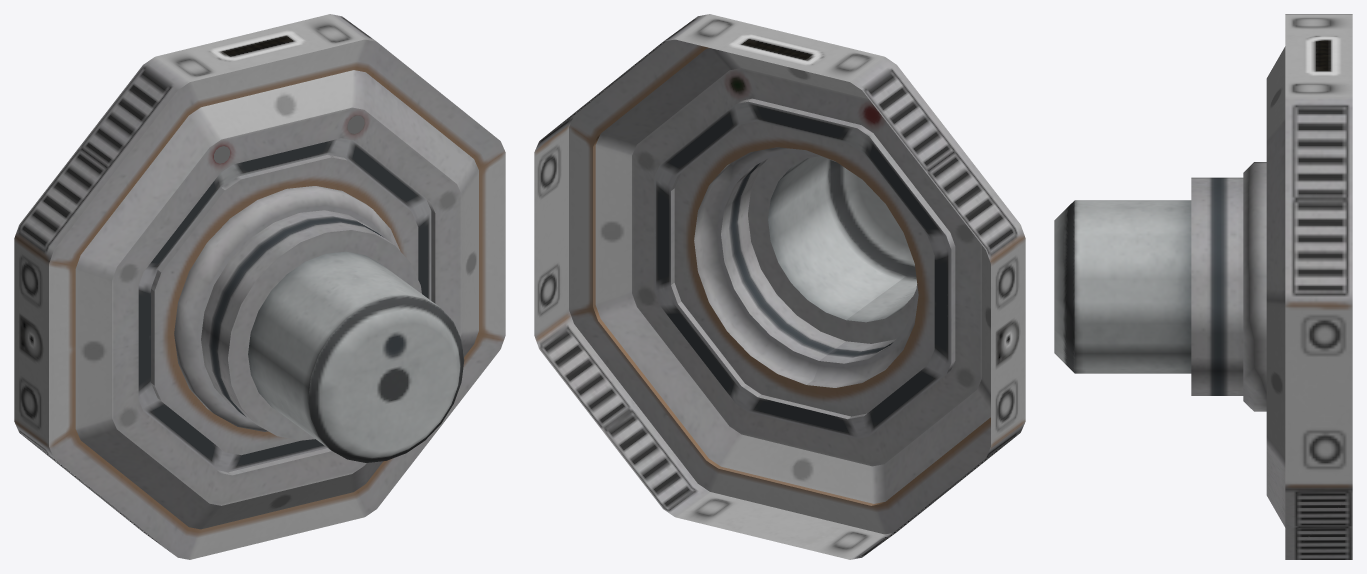
The model's file is Rotary A1D.fbx.
3 renders of one model, left to right at view 1: azimuth 30°, elevation 25°; view 2: azimuth 150°, elevation 25°; view 3: azimuth 270°, elevation 25°, orthographic. The views are drawn at different scales.
Visible parts, largest first — view 1: Rotary A1D, RotaryHandle A1D; view 2: Rotary A1D, RotaryHandle A1D; view 3: Rotary A1D, RotaryHandle A1D.
Part boxes in pixels (x1=…): Rotary A1D: x1=14, y1=14, x2=505, y2=559; RotaryHandle A1D: x1=248, y1=251, x2=464, y2=462; Rotary A1D: x1=534, y1=14, x2=1025, y2=559; RotaryHandle A1D: x1=768, y1=156, x2=917, y2=322; Rotary A1D: x1=1191, y1=14, x2=1352, y2=559; RotaryHandle A1D: x1=1054, y1=200, x2=1191, y2=373.
Bounding box in the file's own units: 17.36 × 17.36 × 10.16.
3 materials, 1 textured.
